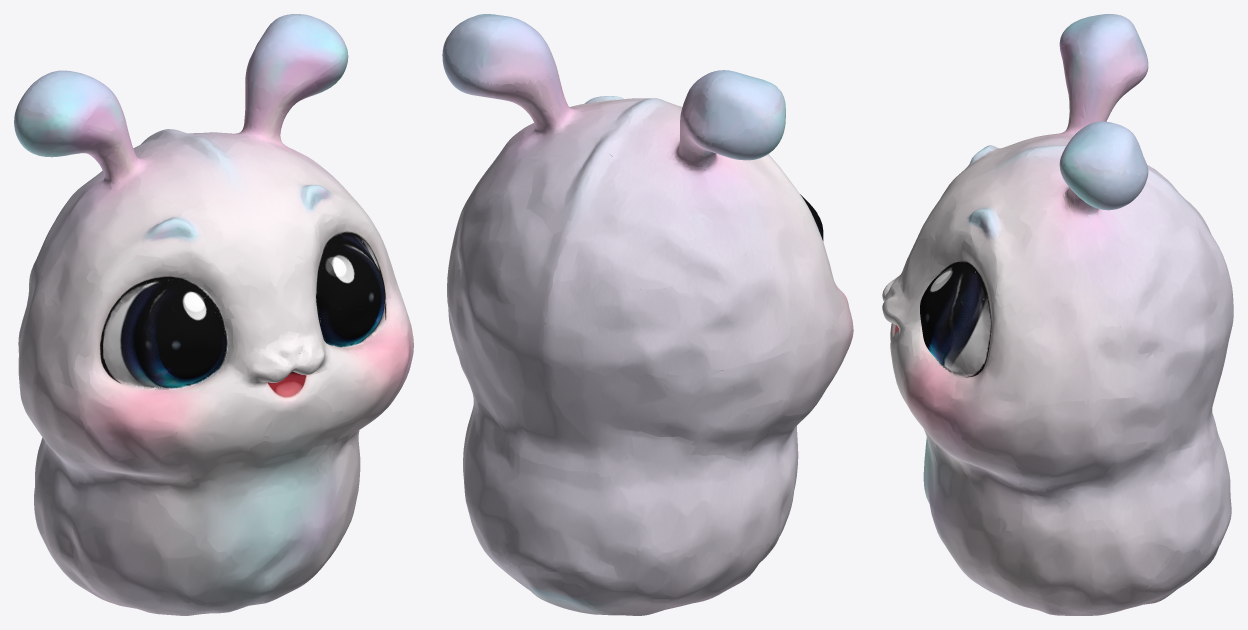
File: form-02.glb
The picture shows the model from 3 angles, left to right: view 1: azimuth 30°, elevation 25°; view 2: azimuth 150°, elevation 25°; view 3: azimuth 270°, elevation 25°; orthographic projection. The views are drawn at different scales.
Bounding box in the file's own units: 1.35 × 1.9 × 1.2.
1 material, 1 textured.
